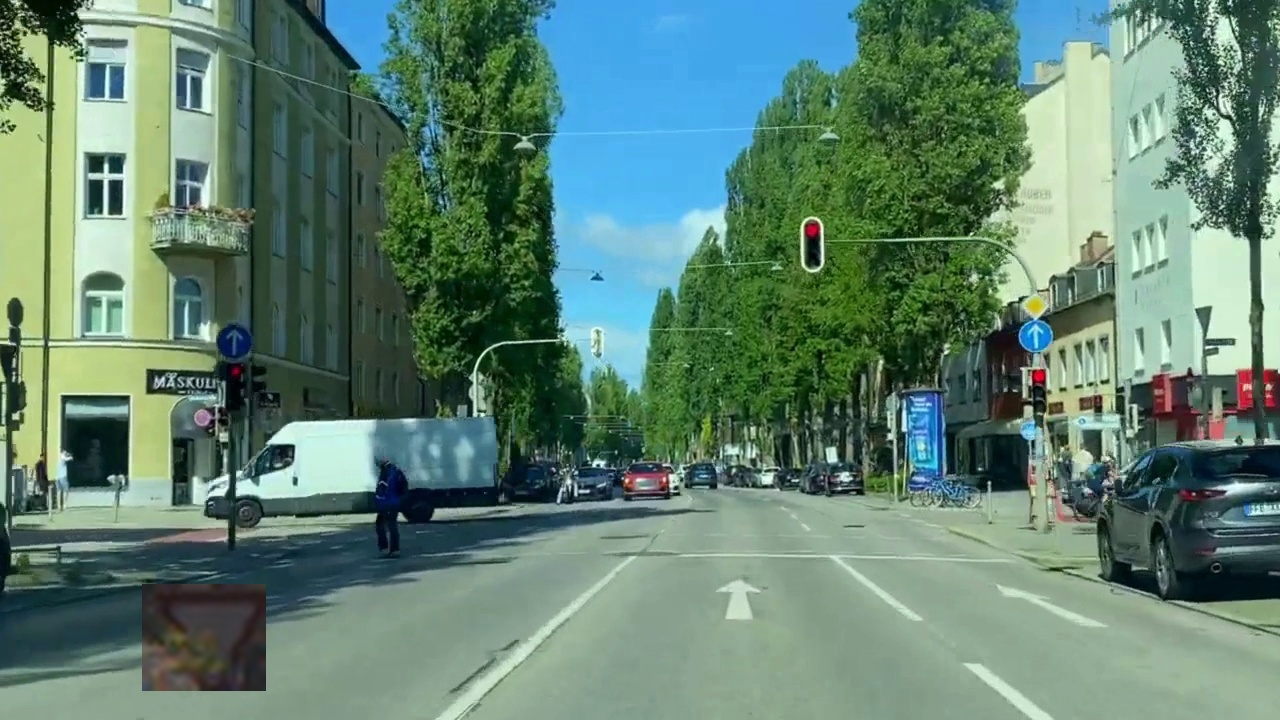Yield: (142, 584, 266, 691)
